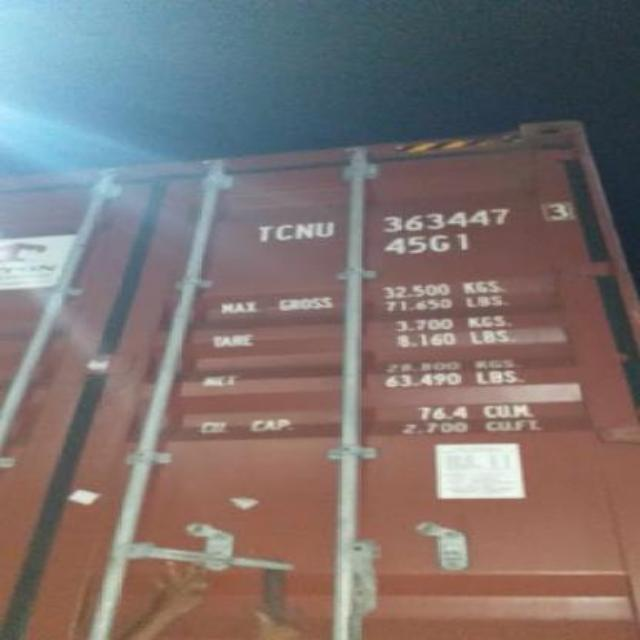3: (544, 202, 574, 222), (380, 215, 404, 233), (426, 214, 446, 230)
4: (470, 208, 490, 230), (446, 211, 468, 229)
6: (406, 216, 424, 230)
7: (488, 206, 510, 226)
C: (272, 225, 294, 241)
N: (290, 223, 312, 241)
T: (254, 226, 270, 242)
U: (314, 222, 336, 242)
